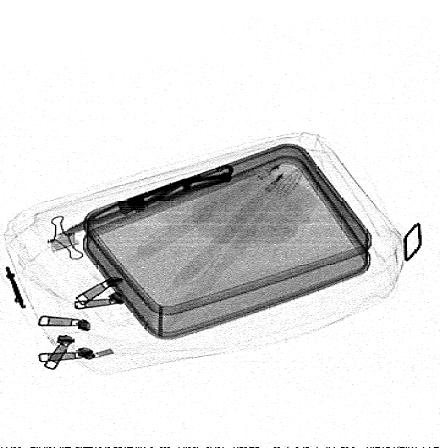Knife: (57, 164, 234, 238)
